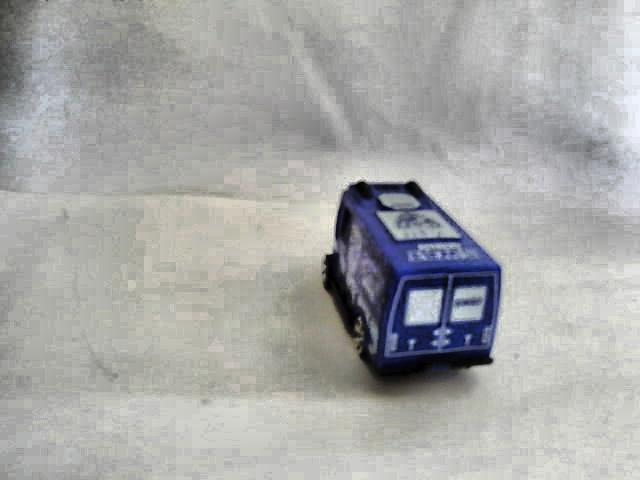police car: (318, 173, 509, 390)
